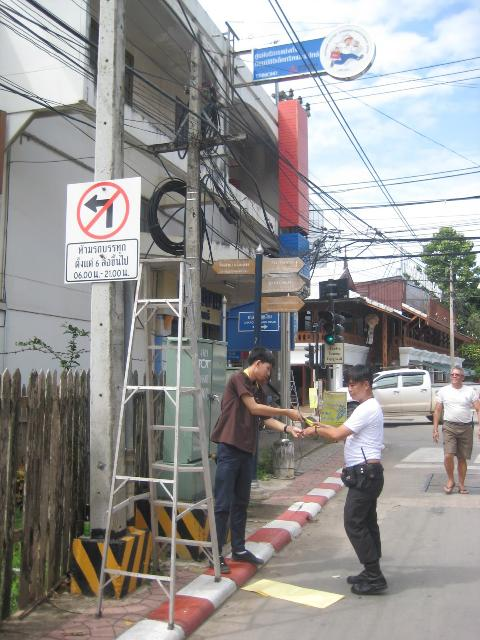not_turn_left: (78, 180, 132, 238)
